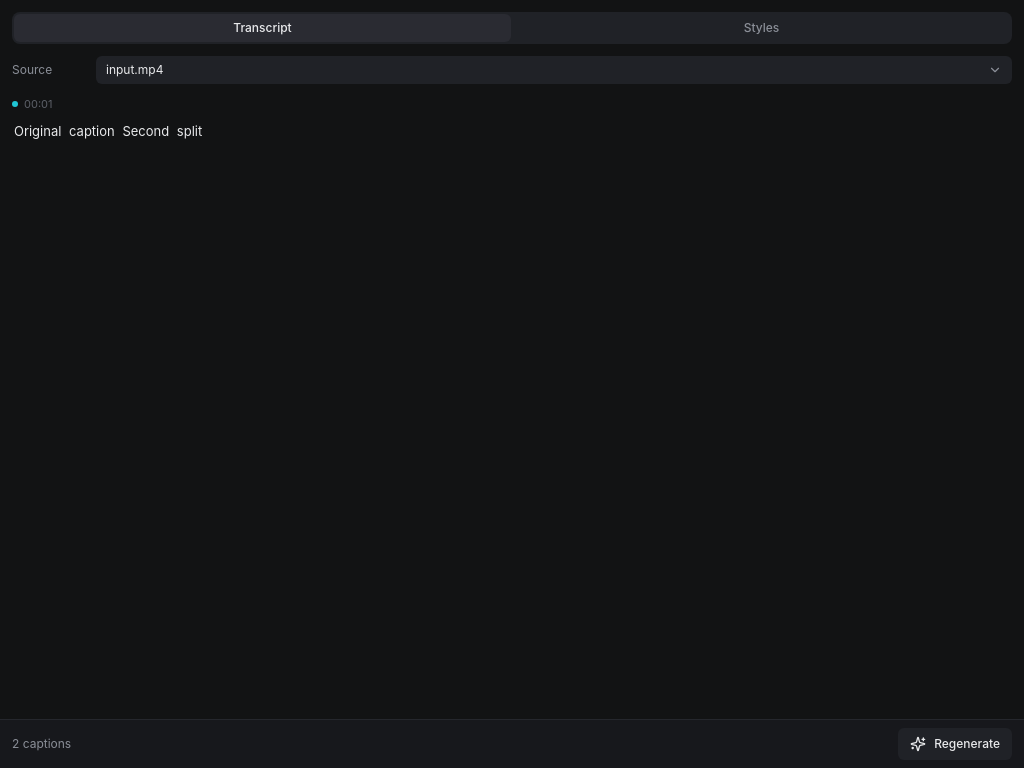
CaptionsPanel › transcript › fixes a word in one batch that updates the transcript and the caption text
Double-click the button "Original" at (38, 130), box 12,116 -> 63,144
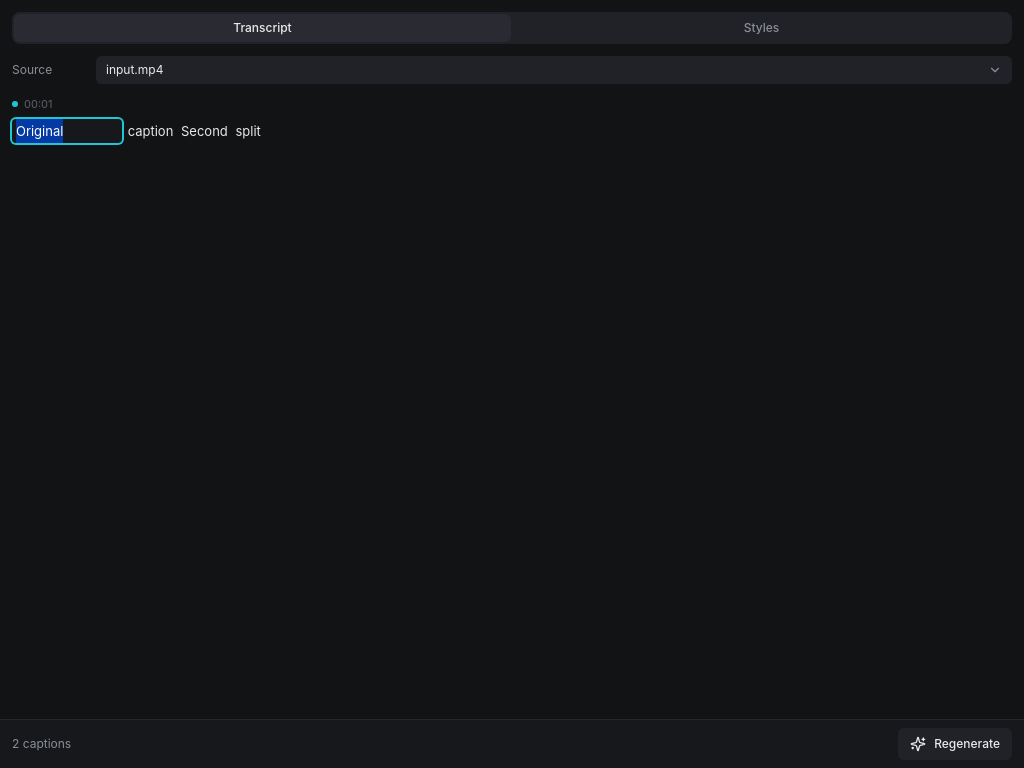
Replace the text in the field named "Fix word “Original”" with "Restored" at (67, 130), box 12,118 -> 122,142
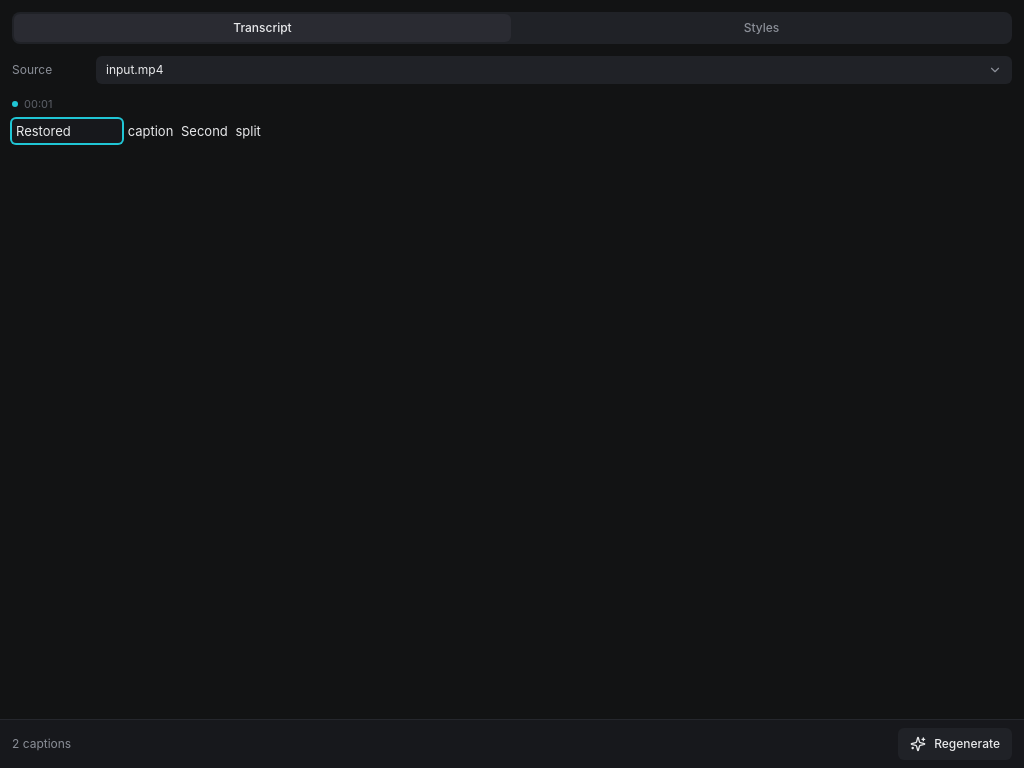
Press Enter in the field named "Fix word “Original”", box 12,118 -> 122,142
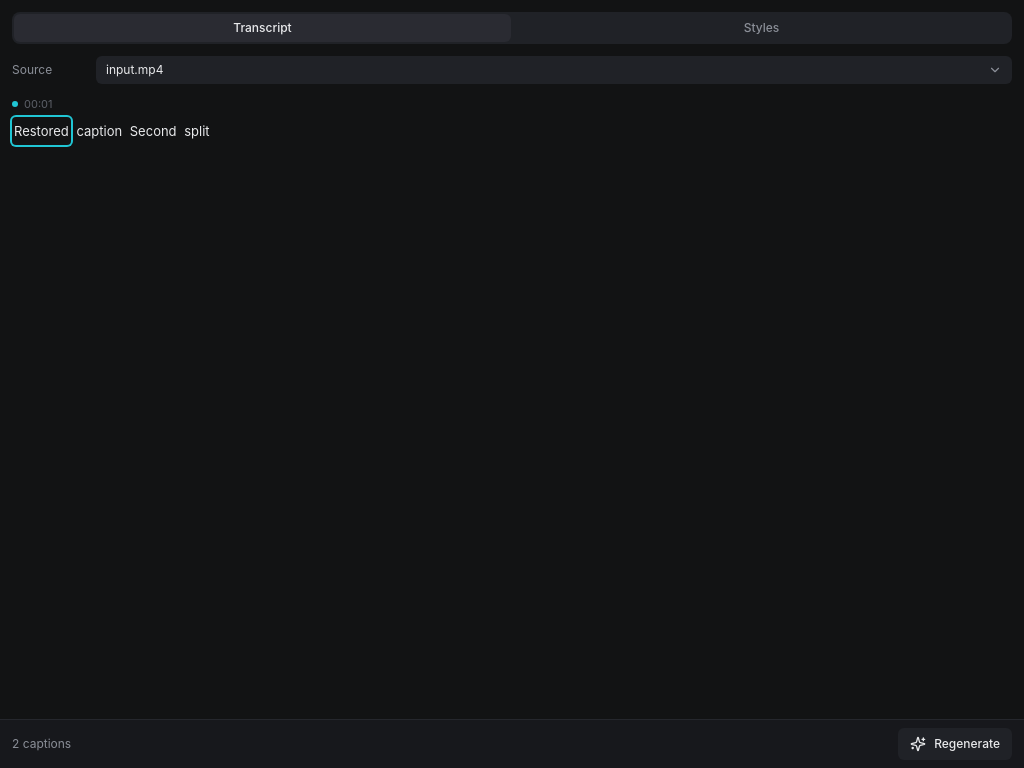
Expected: the field is gone
